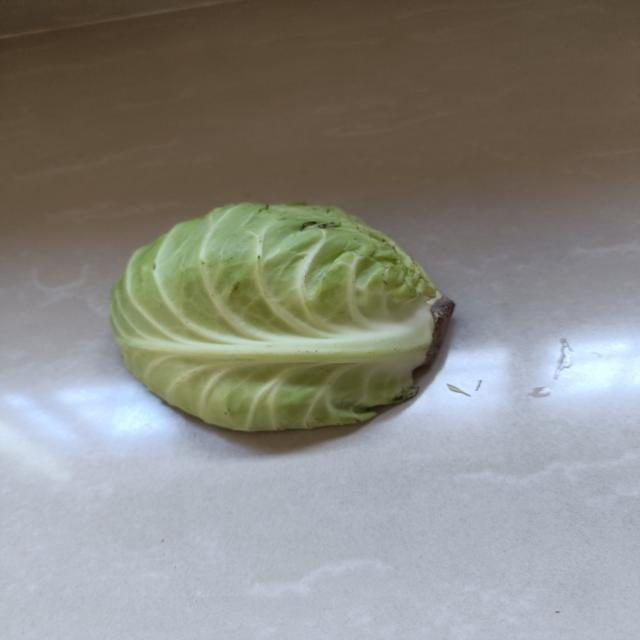cabbage: (111, 202, 443, 434)
